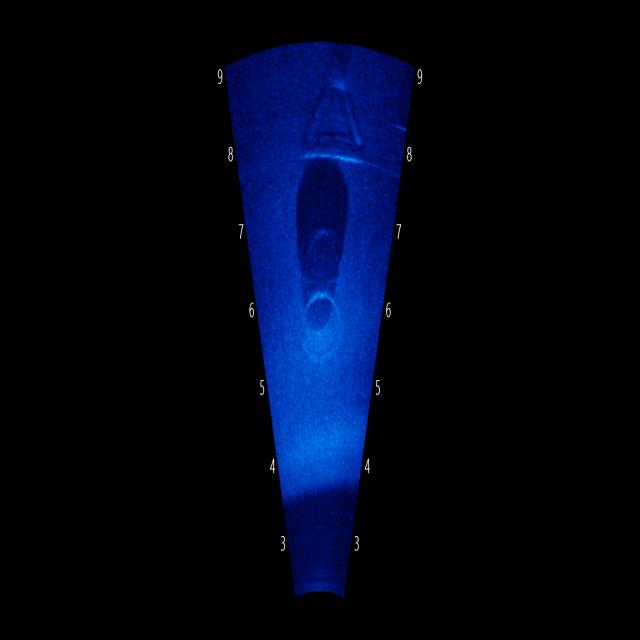circle: (287, 255, 351, 390)
triangle: (294, 56, 375, 170)
